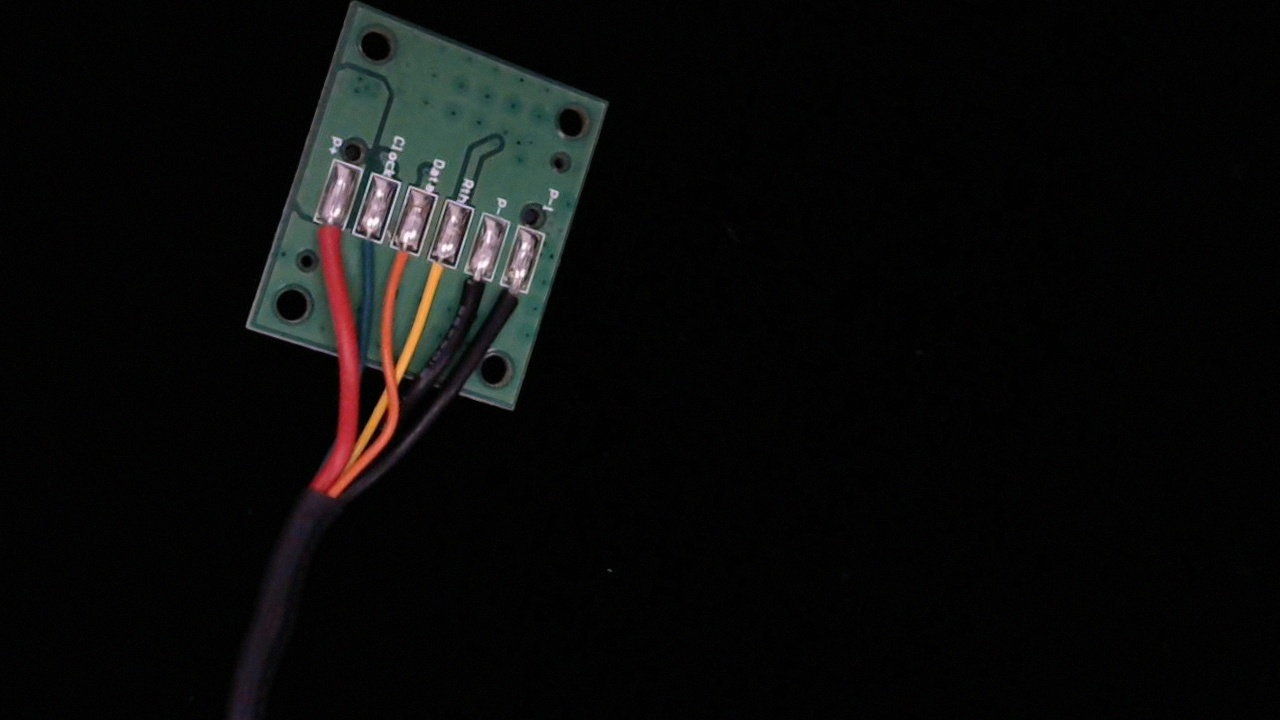Black: (445, 250, 500, 330)
Black1: (486, 266, 537, 340)
Green: (343, 210, 391, 277)
Orange: (376, 224, 428, 302)
Red: (301, 201, 348, 269)
Yellow: (410, 237, 465, 318)
